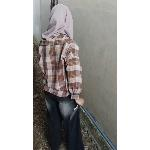Pisau: (67, 100, 83, 122)
